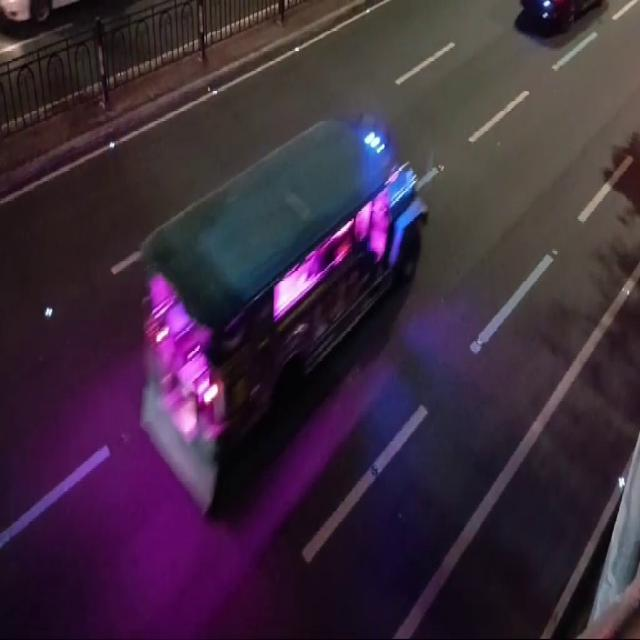jeepney: (132, 97, 436, 558)
